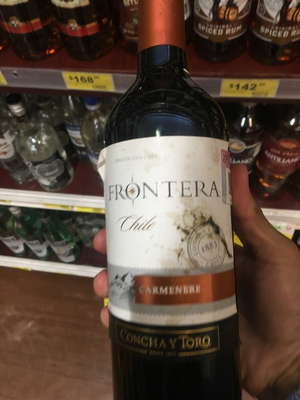frontera carmenere: (103, 6, 253, 395)
